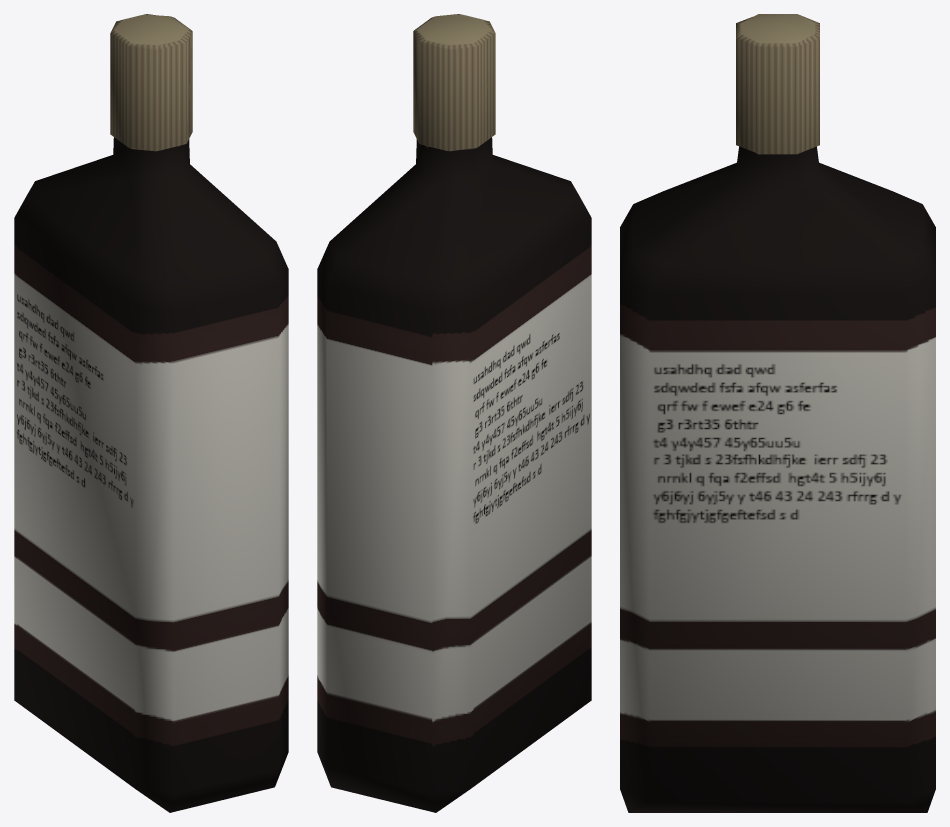
The model's file is AlcoholBottle.FBX.
The picture shows the model from 3 angles, left to right: view 1: azimuth 30°, elevation 25°; view 2: azimuth 150°, elevation 25°; view 3: azimuth 270°, elevation 25°; orthographic projection. The views are drawn at different scales.
Parts seen in each view (by area): view 1: Box170; view 2: Box170; view 3: Box170.
Boxes of the visible parts, x1,y1,x2,y2 form: Box170: (14, 14, 288, 812); Box170: (317, 14, 591, 812); Box170: (620, 14, 935, 812).
Size of the model in its own units: 21.94 by 98.21 by 37.1.
Materials: 1 (1 with a texture image).
